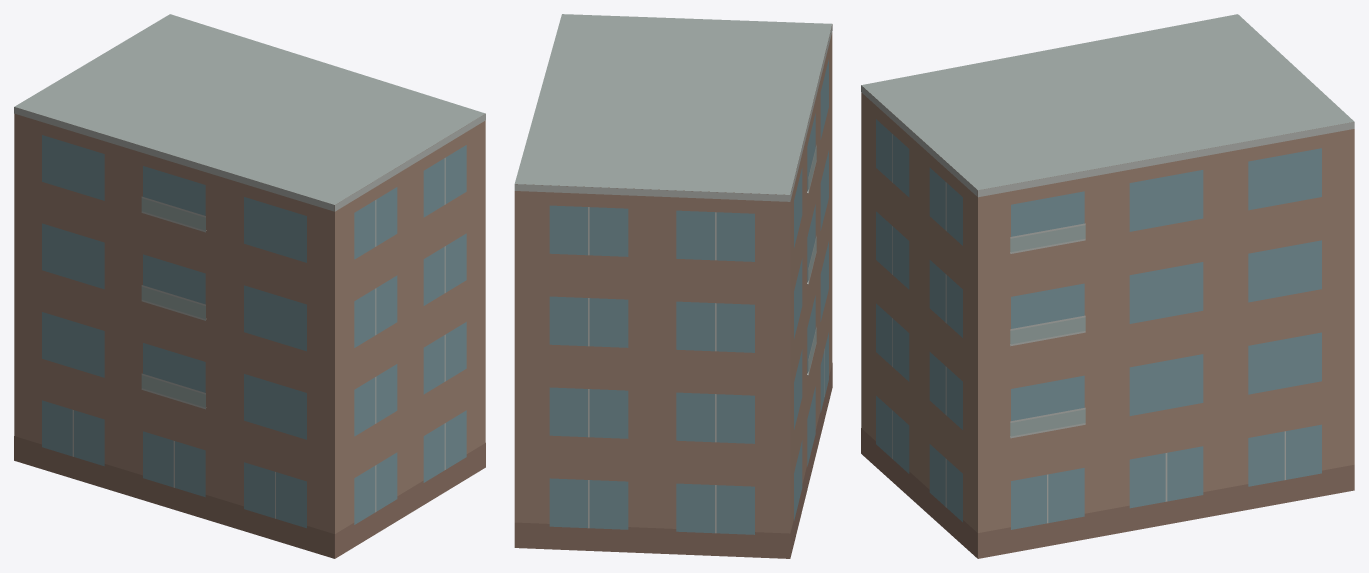
Rendered from survey-upis-32744755.glb.
3 renders of one model, left to right at view 1: azimuth 30°, elevation 25°; view 2: azimuth 150°, elevation 25°; view 3: azimuth 270°, elevation 25°, orthographic. The views are drawn at different scales.
Parts seen in each view (by area): view 1: survey-upis-32744755.tmp; view 2: survey-upis-32744755.tmp; view 3: survey-upis-32744755.tmp.
Boxes of the visible parts, x1,y1,x2,y2 form: survey-upis-32744755.tmp: (14, 14, 485, 558); survey-upis-32744755.tmp: (514, 14, 832, 558); survey-upis-32744755.tmp: (861, 14, 1354, 558).
Size of the model in its own units: 13.14 by 12.8 by 15.54.
